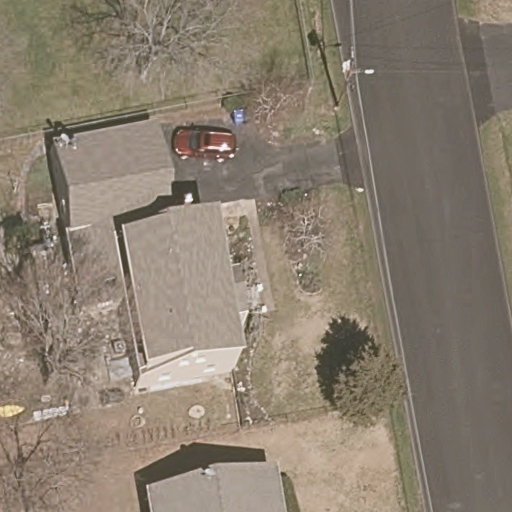DT: (331, 46, 374, 109)
